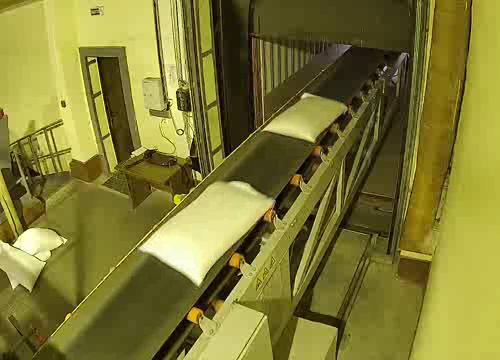bag: (134, 178, 277, 292), (261, 90, 352, 148)
